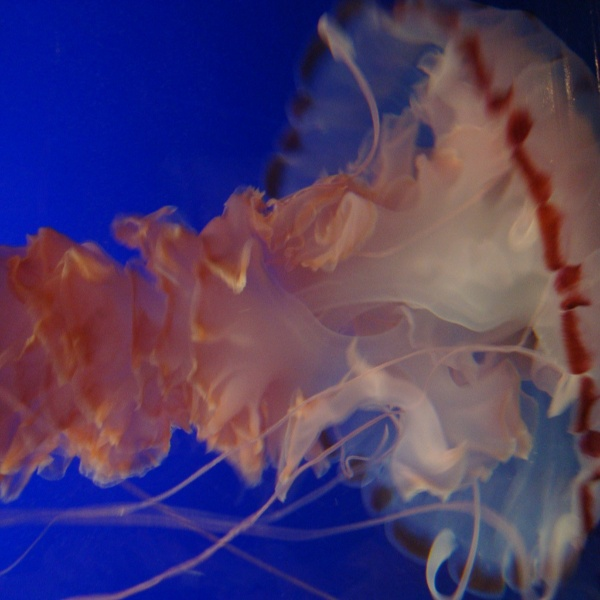Jellyfish: (0, 1, 599, 599)
